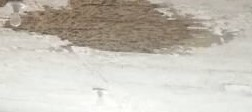Spalling: (1, 1, 240, 57)
